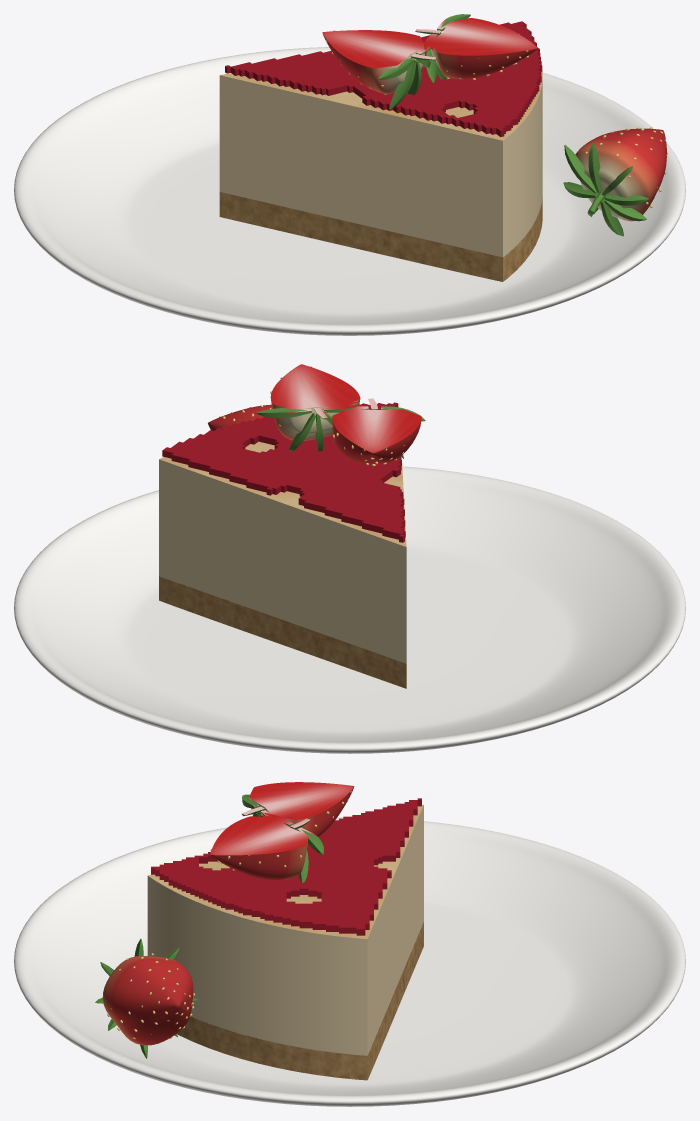
The model's file is cheesecake.glb.
3 renders of one model, top to bottom at view 1: azimuth 30°, elevation 25°; view 2: azimuth 150°, elevation 25°; view 3: azimuth 270°, elevation 25°, orthographic.
Visible parts, largest first — view 1: base, cheesecake, strawberry, berry-sauce, biscuit; view 2: base, cheesecake, berry-sauce, strawberry, biscuit; view 3: base, cheesecake, strawberry, berry-sauce, biscuit.
Part boxes in pixels (left/top/right/bottom): base: left=14, top=47, right=685, bottom=335; cheesecake: left=219, top=70, right=542, bottom=257; strawberry: left=322, top=14, right=667, bottom=236; berry-sauce: left=225, top=21, right=542, bottom=136; biscuit: left=219, top=192, right=542, bottom=281; base: left=14, top=466, right=685, bottom=753; cheesecake: left=159, top=441, right=406, bottom=663; berry-sauce: left=162, top=402, right=405, bottom=542; strawberry: left=208, top=364, right=425, bottom=466; biscuit: left=159, top=576, right=406, bottom=688; base: left=14, top=817, right=685, bottom=1106; cheesecake: left=147, top=804, right=423, bottom=1056; strawberry: left=95, top=782, right=354, bottom=1058; berry-sauce: left=151, top=798, right=421, bottom=935; biscuit: left=176, top=922, right=423, bottom=1080.
Size of the model in its own units: 0.2182 by 0.0794 by 0.2182.
Materials: 15 (7 with a texture image).
